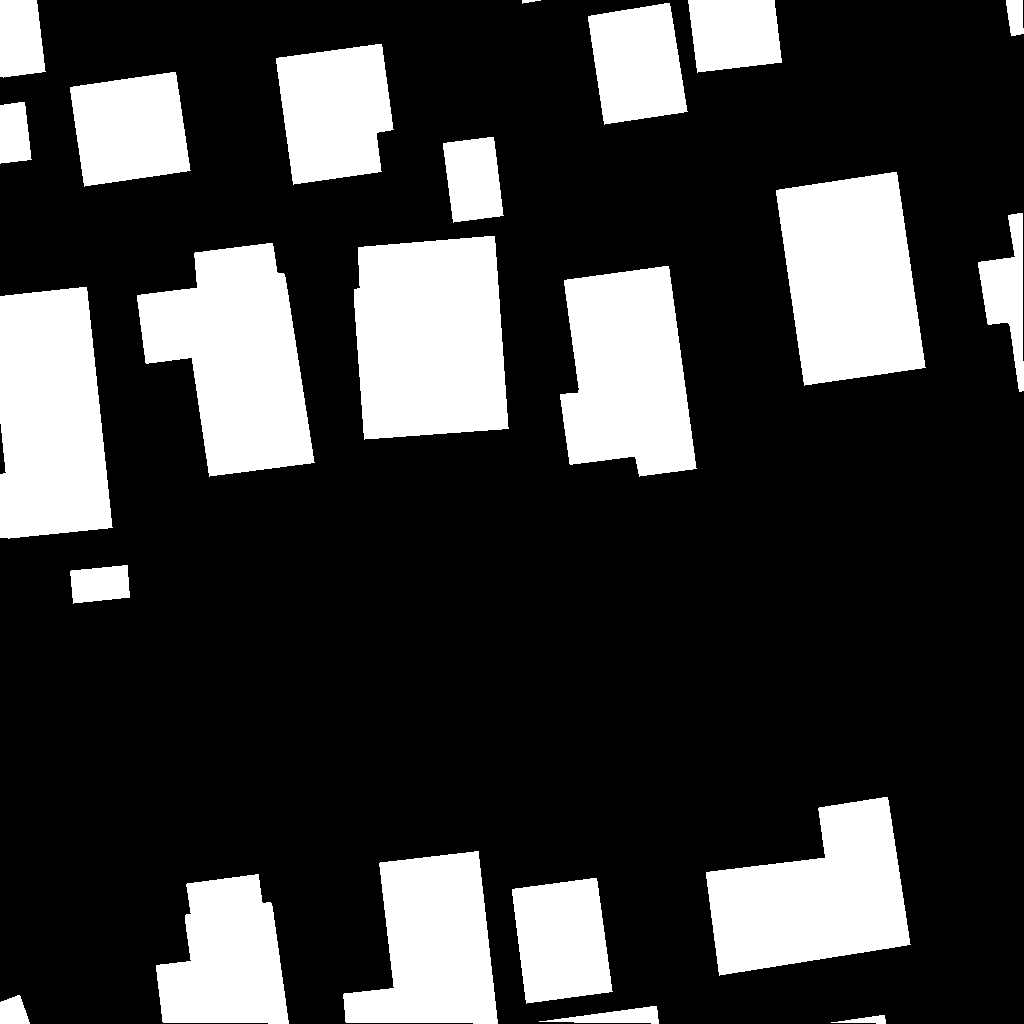building: (137, 243, 315, 477), (706, 797, 911, 976), (776, 172, 926, 386), (354, 236, 509, 440), (560, 266, 697, 477), (0, 287, 113, 539), (343, 851, 499, 1024), (156, 874, 290, 1024), (276, 44, 394, 185), (70, 72, 191, 187), (512, 878, 613, 1004), (588, 3, 688, 125), (978, 213, 1024, 393), (688, 0, 783, 73), (443, 137, 504, 223), (0, 0, 46, 78), (70, 565, 131, 604), (536, 1006, 660, 1024), (0, 102, 32, 164), (0, 995, 31, 1024), (1006, 0, 1024, 37), (828, 1015, 887, 1024), (522, 0, 545, 4), (1023, 43, 1024, 48)
